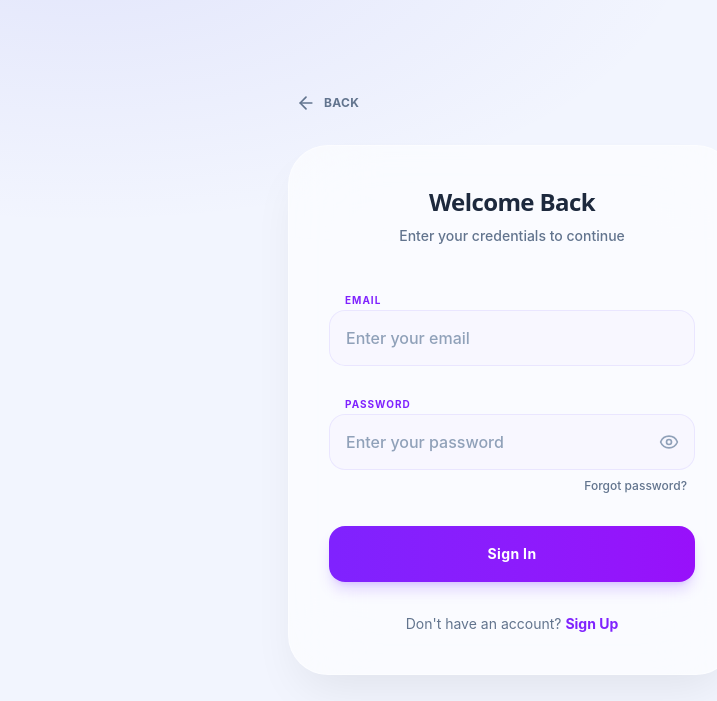
Test: AuthForm › shows why a reset email could not be sent
Click the button "Forgot password?". click: (636, 486)
box: [584, 478, 687, 494]
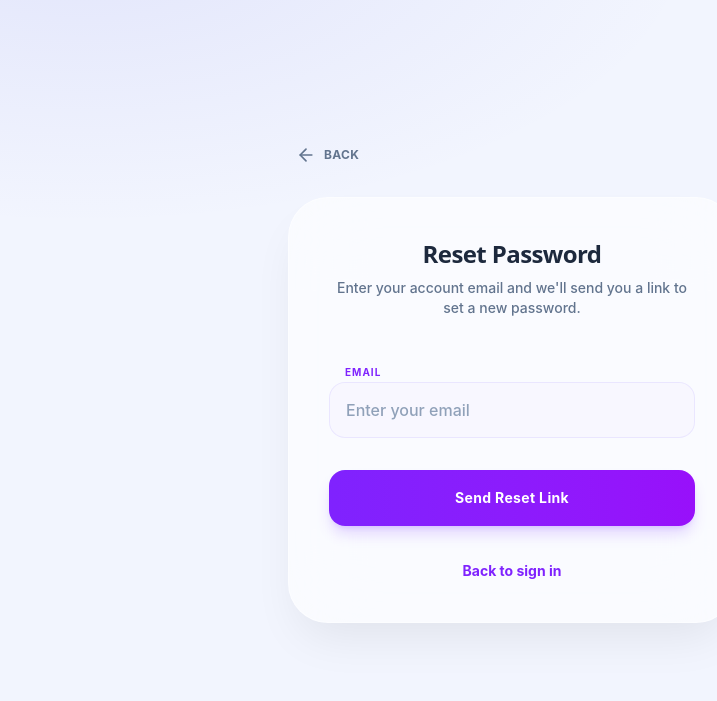
Type "forgot@example.com" into the field with placeholder "Enter your email". click: (512, 410)
box: [329, 382, 695, 438]
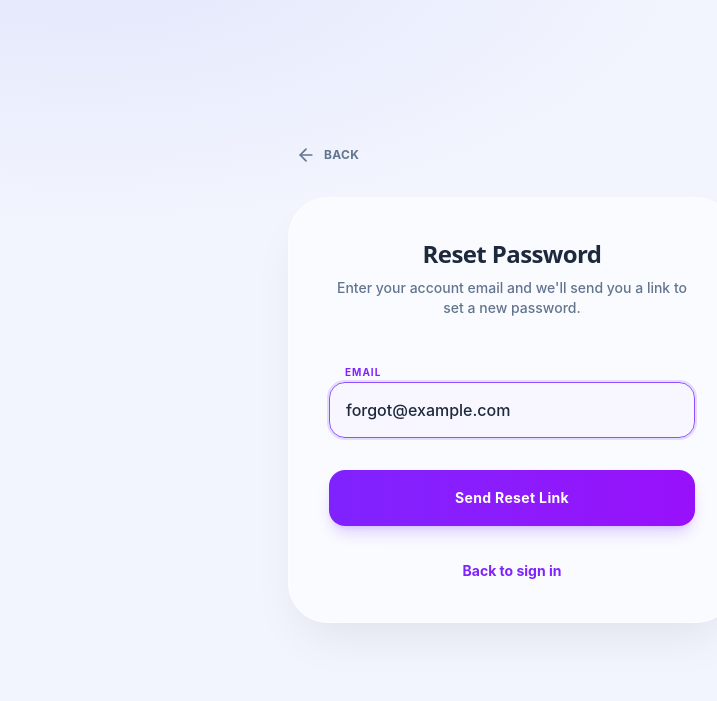
Click the button "Send Reset Link". click: (512, 498)
box: [329, 470, 695, 526]
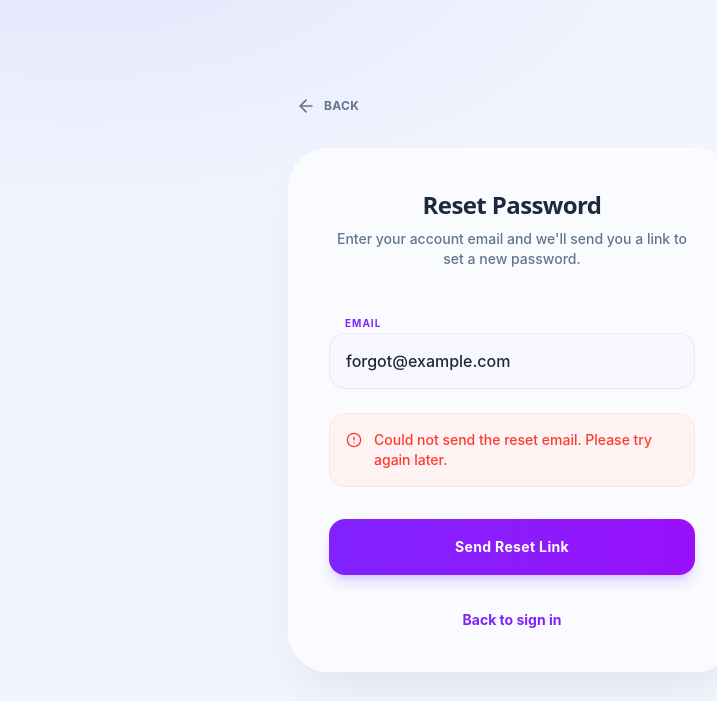
Check: the message shows "Could not send the reset email", box [374, 431, 652, 468]
